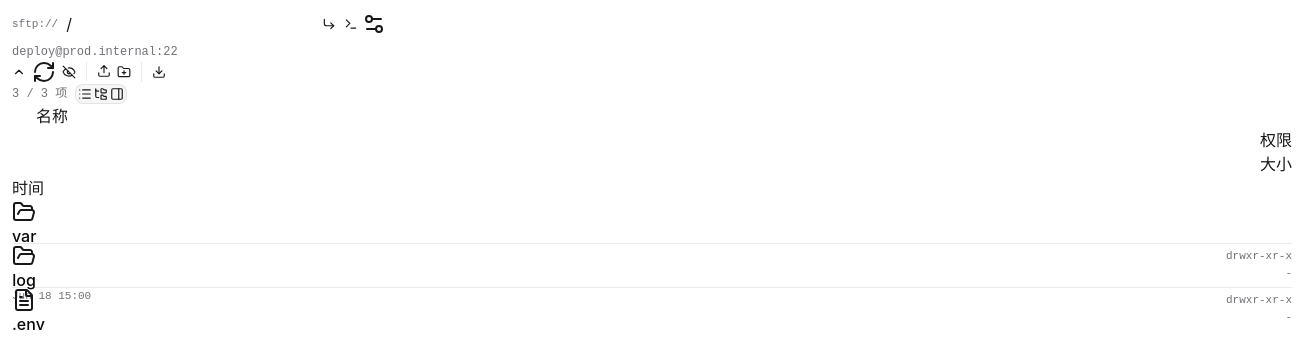
Scenario: SftpToolContent transfers and containers › does not offer ZIP archive uploads from the current-directory context menu
Expected: the text "var" is shown, left=12, top=226, right=36, bottom=246
Right-click the element with test id "sftp-drop-zone" at x=652, y=218, box left=12, top=104, right=1292, bottom=332
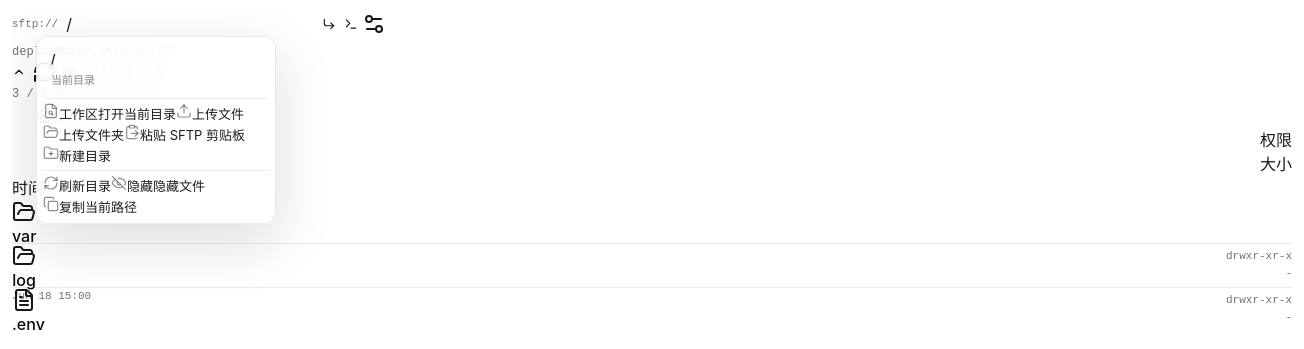
Result: the menu item "粘贴 SFTP 剪贴板" is shown at left=124, top=124, right=245, bottom=145
